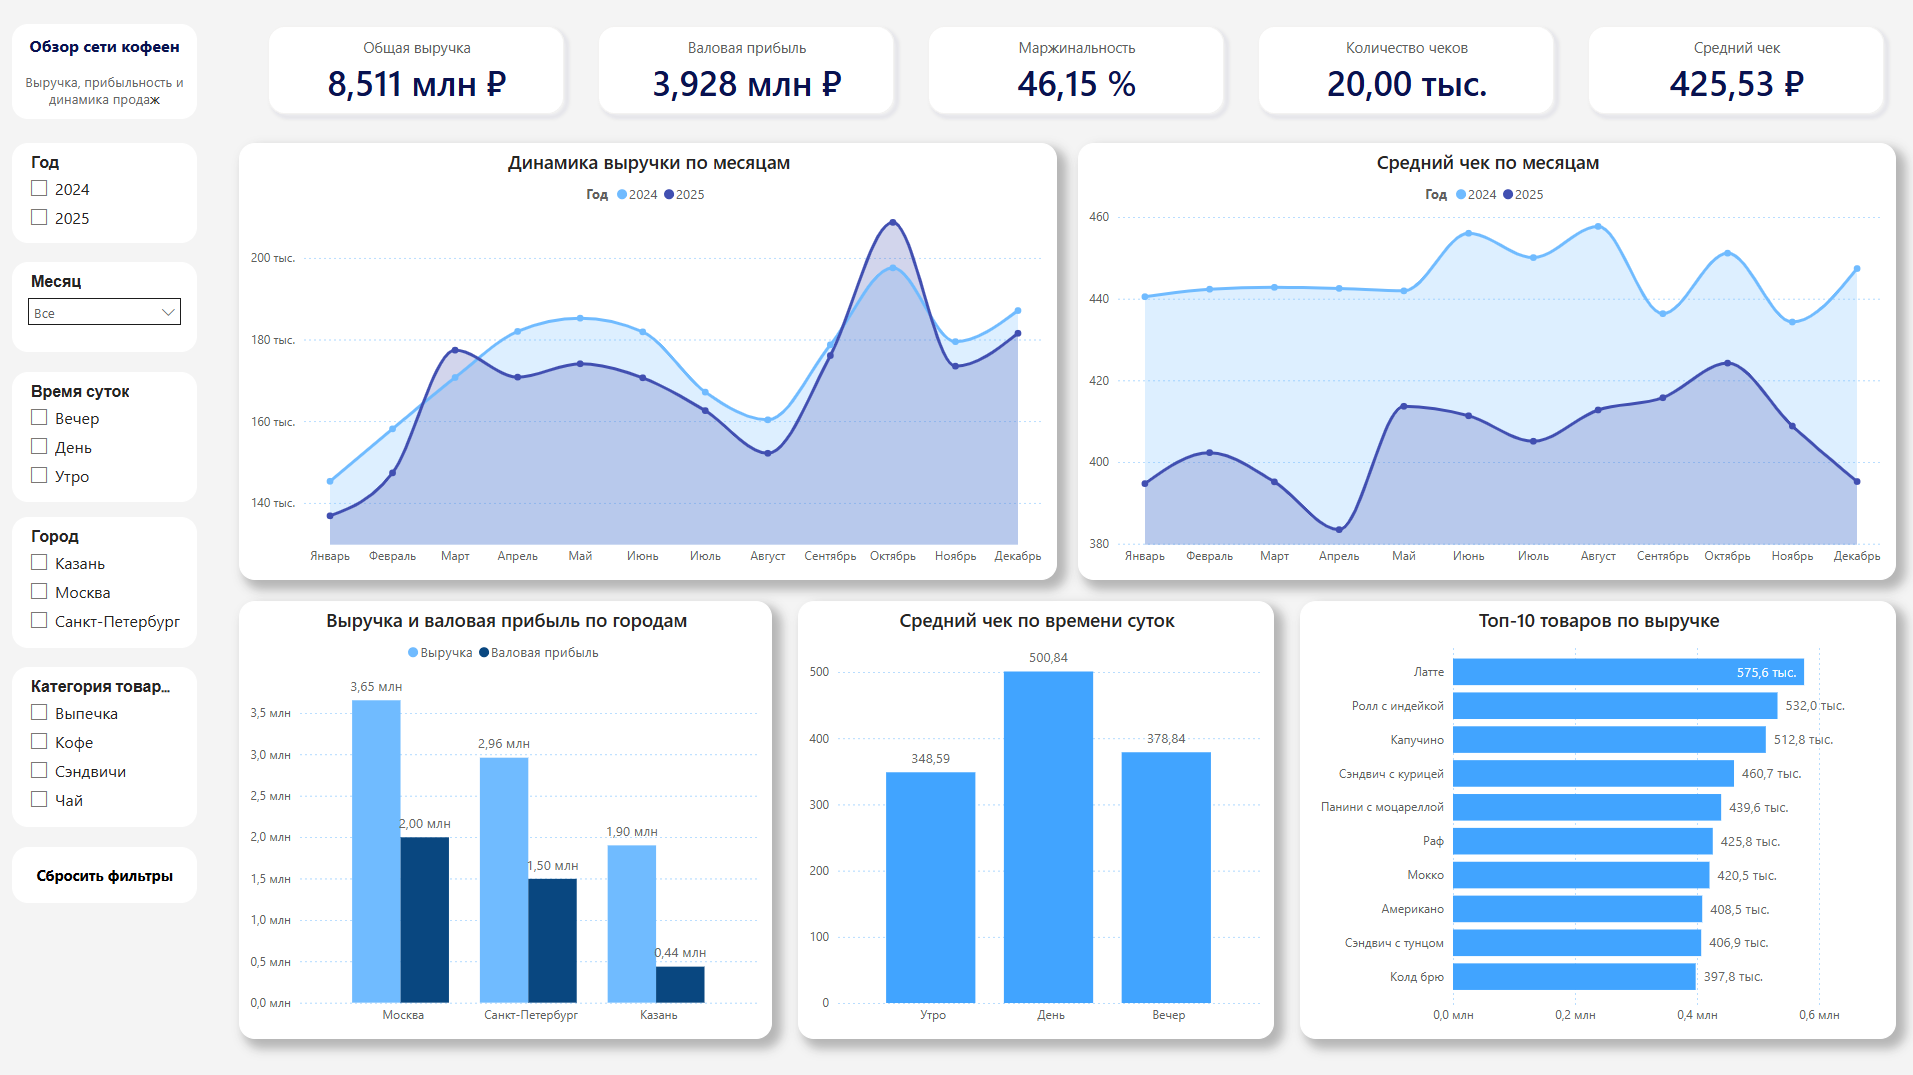

The dashboard page shown, as its layout file describes it:
{"tool":"powerbi","page":{"name":"Сводка","canvas":[1920,1080],"ordinal":0},"visuals":[{"type":"cardVisual","fields":{"Data":["coffee_sales.Выручка KPI","coffee_sales.Валовая прибыль KPI","coffee_sales.Маржинальность KPI","Count(coffee_sales.transaction_id)","coffee_sales.Средний чек KPI"]},"box":[243.3,0,1676.7,145.6],"z":0},{"type":"columnChart","title":"Средний чек по времени суток","fields":{"Category":["coffee_sales.Время суток"],"Y":["coffee_sales.Средний чек"]},"box":[802.2,604.4,475.6,437.8],"z":1000},{"type":"clusteredColumnChart","title":"Выручка и валовая прибыль по городам","fields":{"Category":["coffee_shops.city"],"Y":["coffee_sales.Выручка","coffee_sales.Валовая прибыль"]},"box":[243.3,604.4,532.2,437.8],"z":2000},{"type":"barChart","title":"Топ-10 товаров по выручке","fields":{"Category":["coffee_products.product_name.1"],"Y":["coffee_sales.Выручка"]},"box":[1304.4,604.4,595.6,437.8],"z":3000},{"type":"slicer","fields":{"Values":["coffee_shops.city"]},"box":[15.6,520.1,185.6,131.1],"z":4000},{"type":"slicer","fields":{"Values":["coffee_sales.Время суток"]},"box":[15.6,374.6,185.6,130],"z":5000},{"type":"slicer","fields":{"Values":["coffee_products.category"]},"box":[15.6,670.1,185.6,160],"z":6000},{"type":"slicer","fields":{"Values":["coffee_sales.Месяц"]},"box":[15.6,264.6,185.6,90],"z":7000},{"type":"slicer","fields":{"Values":["coffee_sales.Год"]},"box":[15.6,145.6,185.6,100],"z":8000},{"type":"lineChart","title":"Динамика выручки по месяцам","fields":{"Y":["Sum(coffee_sales.cost)"],"Category":["coffee_sales.datetime.Изменение.Иерархия дат.Квартал","coffee_sales.datetime.Изменение.Иерархия дат.Месяц","coffee_sales.datetime.Изменение.Иерархия дат.День"],"Series":["coffee_sales.Год"]},"box":[243.3,145.6,817.8,437.8],"z":9000},{"type":"lineChart","title":"Средний чек по месяцам","fields":{"Category":["coffee_sales.datetime.Изменение.Иерархия дат.Квартал","coffee_sales.datetime.Изменение.Иерархия дат.Месяц"],"Series":["coffee_sales.Год"],"Y":["coffee_sales.Средний чек"]},"box":[1082.2,145.6,817.8,437.8],"z":10000},{"type":"actionButton","title":"Сбросить фильтры","box":[15.6,850.1,185.6,55.6],"z":11000},{"type":"textbox","box":[15.6,26.7,185.6,95.6],"z":12000}]}

Visuals, with their boxes in screenshot pixels (x1, y1, x2, y2), scaled from the page's 1920x1080 canvas onto the 1913x1075 screenshot:
cardVisual - coffee_sales.Выручка KPI x coffee_sales.Валовая прибыль KPI: pyautogui.locateOnScreen(242, 0, 1912, 145)
"Средний чек по времени суток" columnChart: pyautogui.locateOnScreen(799, 602, 1273, 1037)
"Выручка и валовая прибыль по городам" clusteredColumnChart: pyautogui.locateOnScreen(242, 602, 773, 1037)
"Топ-10 товаров по выручке" barChart: pyautogui.locateOnScreen(1300, 602, 1893, 1037)
slicer - coffee_shops.city: pyautogui.locateOnScreen(16, 518, 200, 648)
slicer - coffee_sales.Время суток: pyautogui.locateOnScreen(16, 373, 200, 502)
slicer - coffee_products.category: pyautogui.locateOnScreen(16, 667, 200, 826)
slicer - coffee_sales.Месяц: pyautogui.locateOnScreen(16, 263, 200, 353)
slicer - coffee_sales.Год: pyautogui.locateOnScreen(16, 145, 200, 244)
"Динамика выручки по месяцам" lineChart: pyautogui.locateOnScreen(242, 145, 1057, 581)
"Средний чек по месяцам" lineChart: pyautogui.locateOnScreen(1078, 145, 1893, 581)
"Сбросить фильтры" actionButton: pyautogui.locateOnScreen(16, 846, 200, 902)
textbox: pyautogui.locateOnScreen(16, 27, 200, 122)
